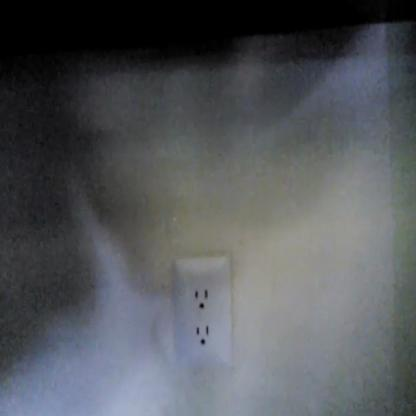OUTLET: (168, 255, 233, 372)
